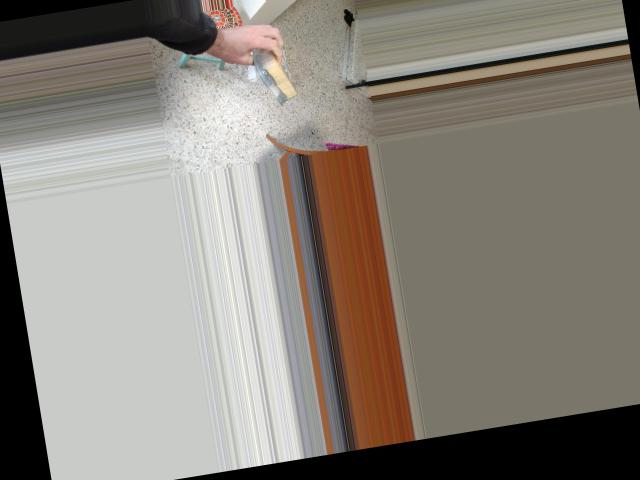cheese: (242, 29, 304, 114)
